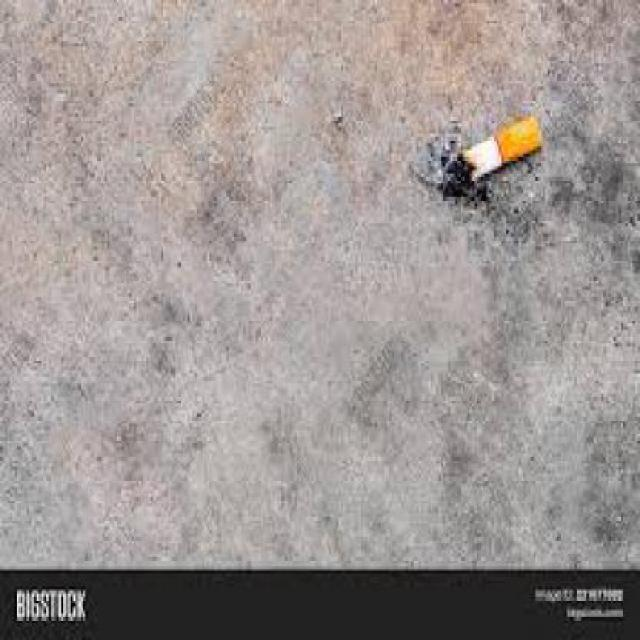cigarette: (420, 110, 554, 196)
